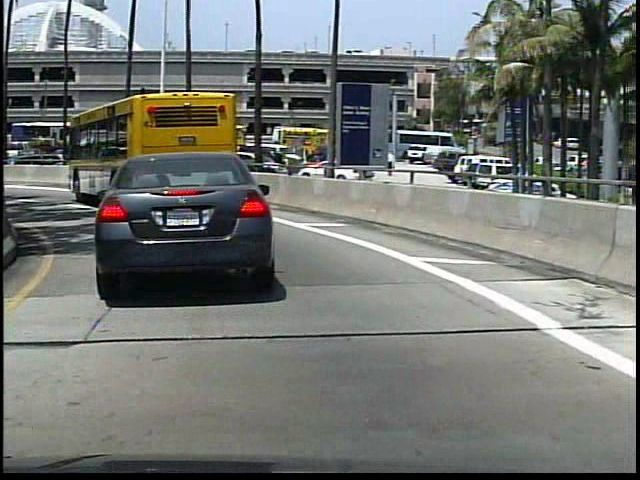person: (270, 147, 284, 180), (383, 149, 397, 179)
